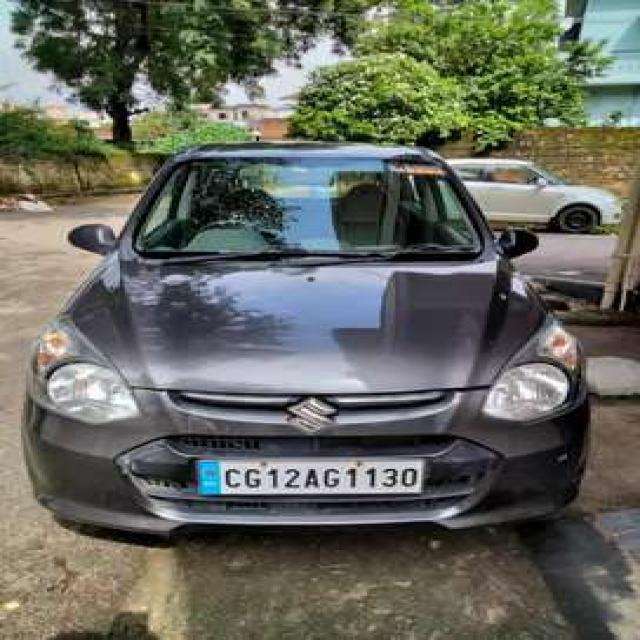Plate: (196, 458, 422, 495)
